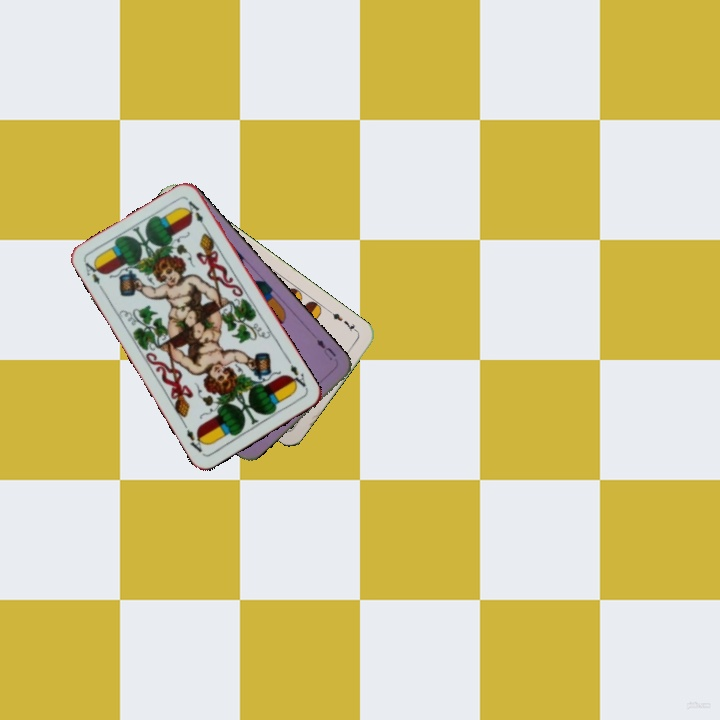E7: (325, 306, 360, 335)
EA: (81, 258, 107, 294), (284, 360, 310, 392)
EU: (312, 335, 339, 363)
